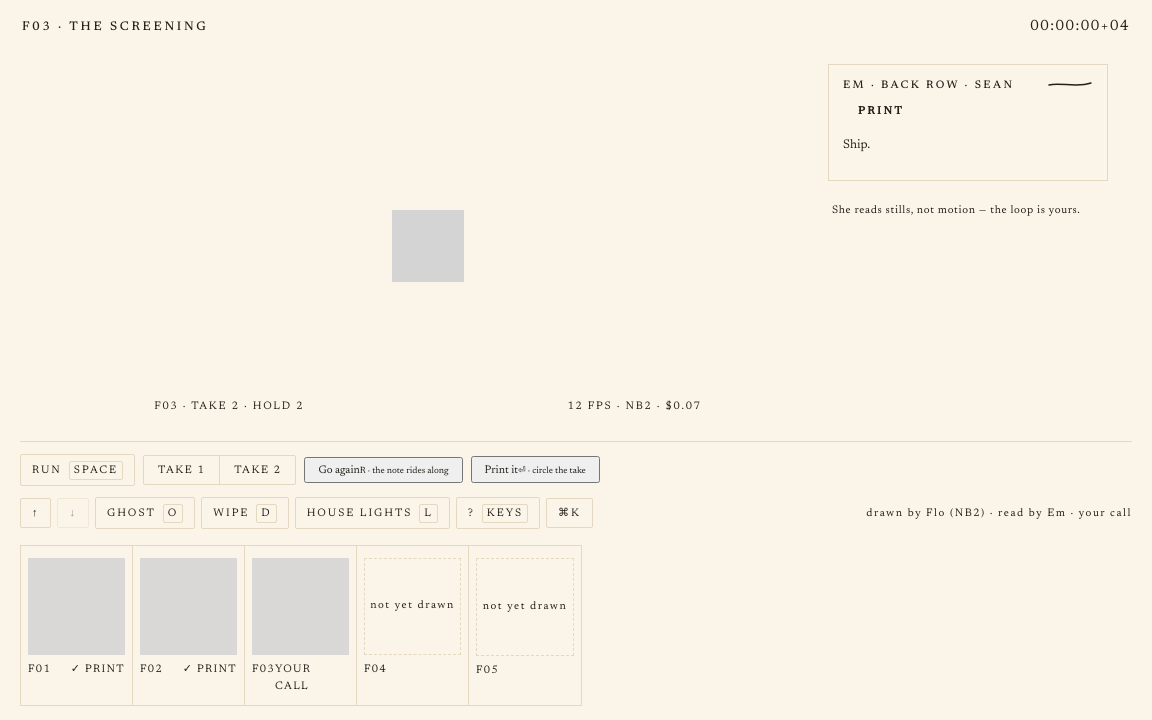
Test: EyeGate — ↑/↓ walk frames (reviewable stops only) › the visible walk buttons navigate too, and the dead end is disabled
expect the element with test id "stage" is shown: met, box [154,210,702,412]
expect the button named "next frame" is disabled: met, box [58,498,89,528]
Click the button named "previous frame" at (36, 513), box [20,498,52,528]
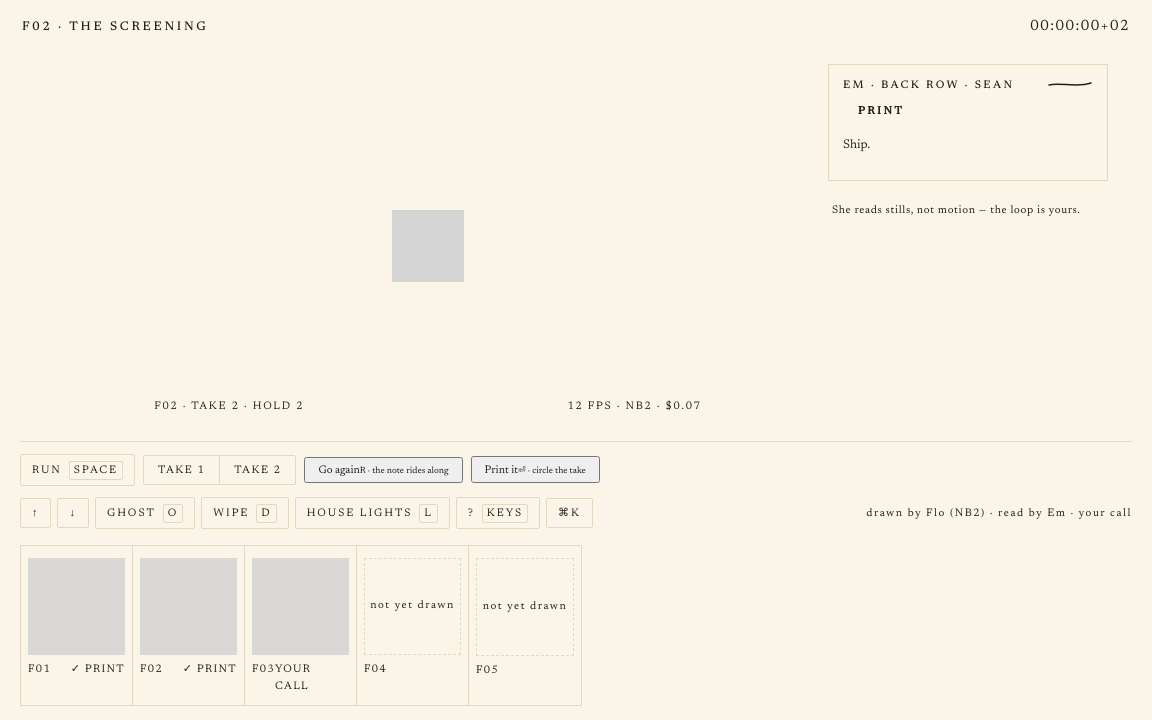
expect the heading "F02 · the screening" is shown: met, box [22,18,209,38]
